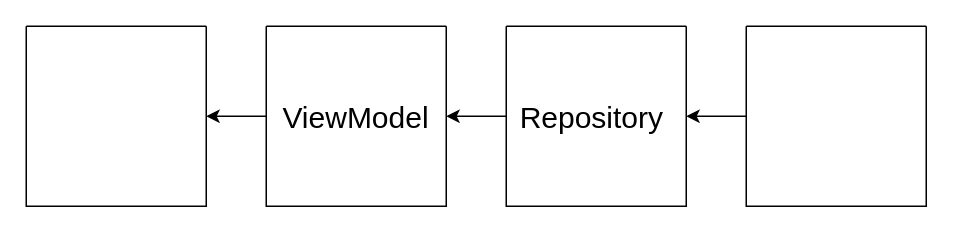
This 953x233 diagram has some shape labels left out. The centre of each missing label's shape, as x and y in pixels:
"Data Source" goes at [835,115].
"Views (Screen)" goes at [115,115].
